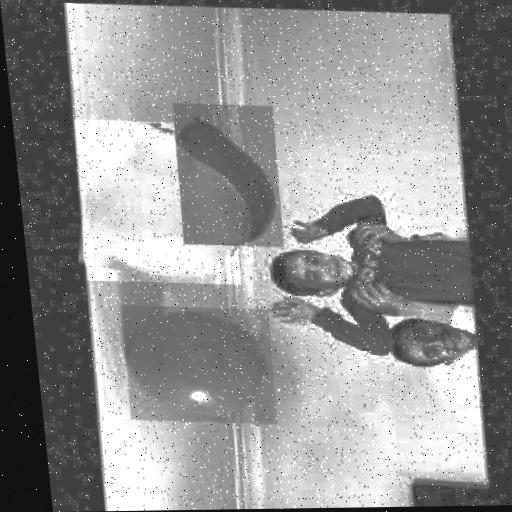balloon: (70, 116, 245, 284), (121, 302, 281, 423), (171, 100, 287, 245)
